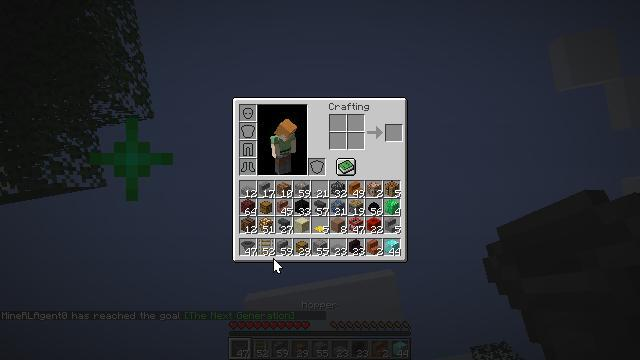cursor: (273, 258, 283, 274)
